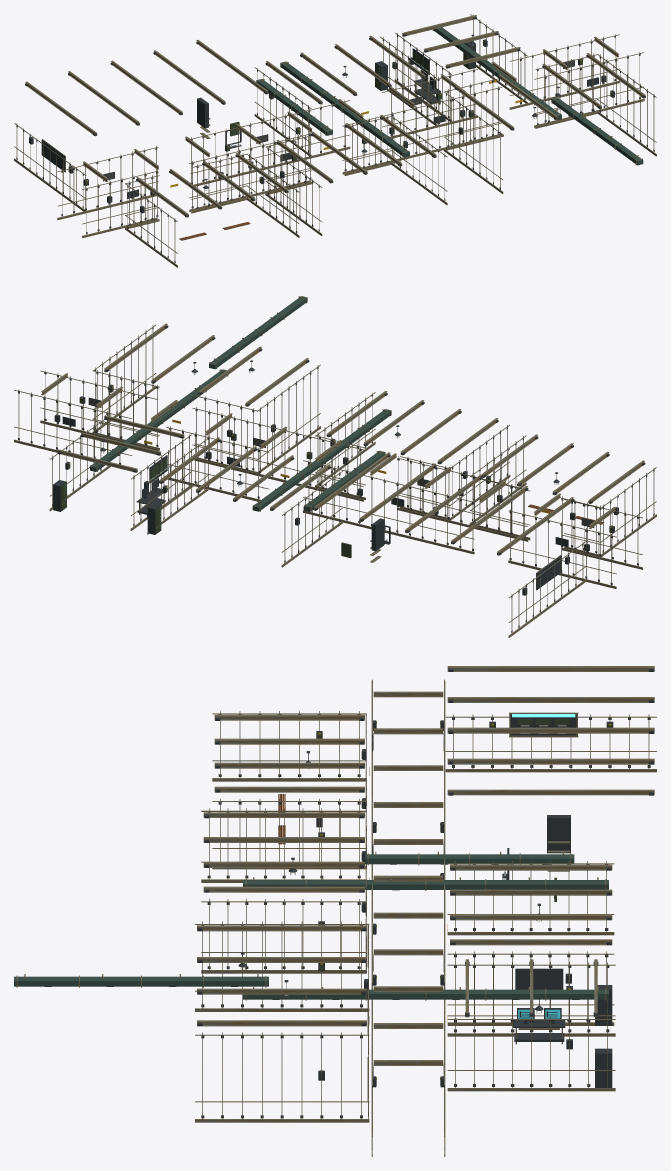
File: level1_dressing.glb
3 renders of one model, top to bottom at view 1: azimuth 30°, elevation 25°; view 2: azimuth 150°, elevation 25°; view 3: azimuth 270°, elevation 25°, orthographic. The views are drawn at different scales.
Parts seen in each view (by area): view 1: DRESS_Steel, DRESS_DarkMetal, DRESS_DuctPaint, DRESS_GreenPaint; view 2: DRESS_Steel, DRESS_DarkMetal, DRESS_DuctPaint, DRESS_GreenPaint; view 3: DRESS_Steel, DRESS_DuctPaint, DRESS_DarkMetal.
Part boxes in pixels (x1=…): DRESS_Steel: x1=14, y1=14, x2=656, y2=267; DRESS_DarkMetal: x1=16, y1=17, x2=654, y2=262; DRESS_DuctPaint: x1=256, y1=27, x2=643, y2=165; DRESS_GreenPaint: x1=85, y1=41, x2=612, y2=195; DRESS_Steel: x1=14, y1=296, x2=656, y2=637; DRESS_DarkMetal: x1=18, y1=325, x2=654, y2=632; DRESS_DuctPaint: x1=90, y1=296, x2=391, y2=511; DRESS_GreenPaint: x1=61, y1=386, x2=612, y2=558; DRESS_Steel: x1=16, y1=666, x2=656, y2=1156; DRESS_DuctPaint: x1=14, y1=854, x2=608, y2=999; DRESS_DarkMetal: x1=45, y1=669, x2=653, y2=1149.
Bounding box in the file's own units: 44 × 5.76 × 29.5.
10 materials, 3 textured.
